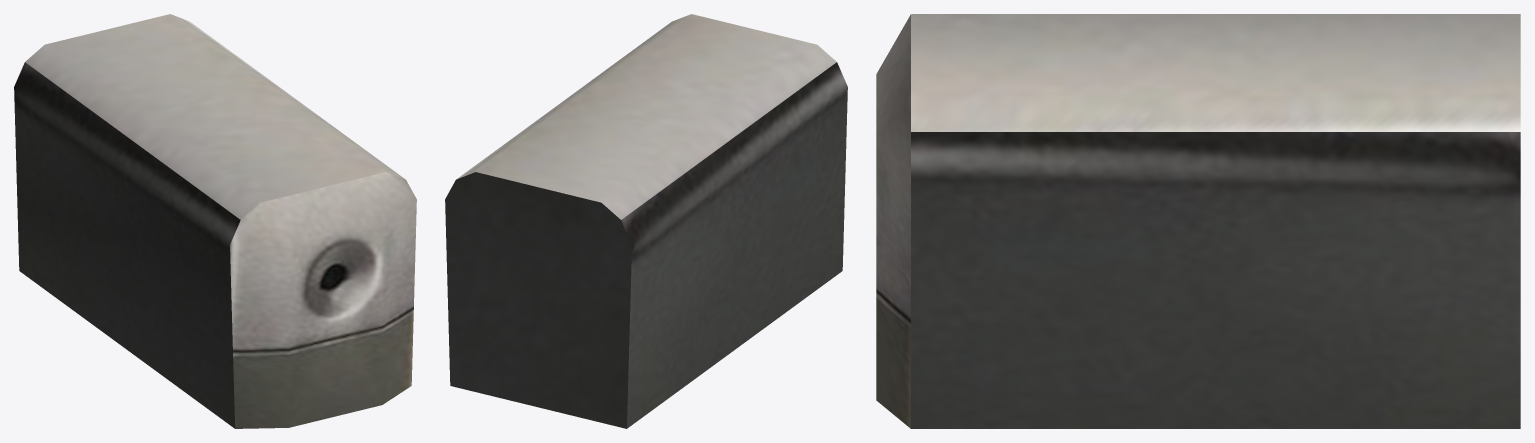
File: Pencil Sharpener_lod3.fbx
3 renders of one model, left to right at view 1: azimuth 30°, elevation 25°; view 2: azimuth 150°, elevation 25°; view 3: azimuth 270°, elevation 25°, orthographic. The views are drawn at different scales.
Parts seen in each view (by area): view 1: Pencil_Shapener; view 2: Pencil_Shapener; view 3: Pencil_Shapener.
Part boxes in pixels (<box>): Pencil_Shapener: <box>14,14,416,428</box>; Pencil_Shapener: <box>445,14,847,428</box>; Pencil_Shapener: <box>876,14,1520,428</box>.
Size of the model in its own units: 2 by 2.25 by 4.23.
